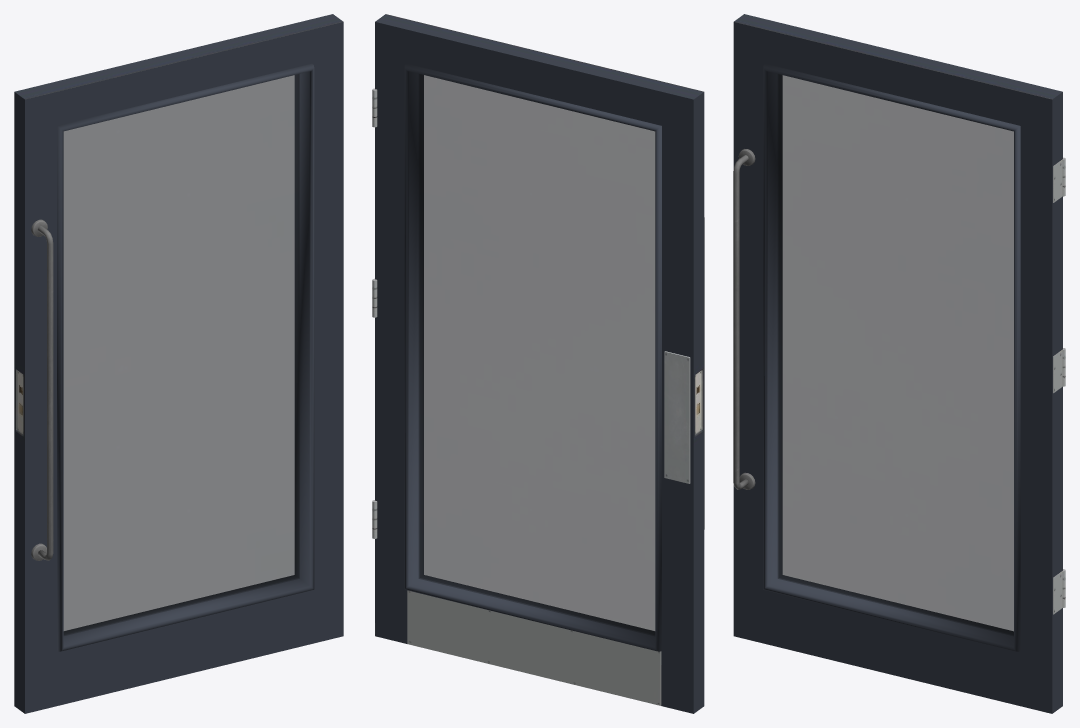
The model's file is SM_Front_Door_02.glb.
3 renders of one model, left to right at view 1: azimuth 30°, elevation 25°; view 2: azimuth 150°, elevation 25°; view 3: azimuth 330°, elevation 25°, orthographic.
Parts seen in each view (by area): view 1: SM_Front_Door_02; view 2: SM_Front_Door_02; view 3: SM_Front_Door_02.
Boxes of the visible parts, x1,y1,x2,y2 form: SM_Front_Door_02: [14, 14, 343, 713]; SM_Front_Door_02: [372, 14, 704, 713]; SM_Front_Door_02: [733, 14, 1065, 713].
Bounding box in the file's own units: 1.31 × 2.39 × 0.1893.
2 materials, 2 textured.
